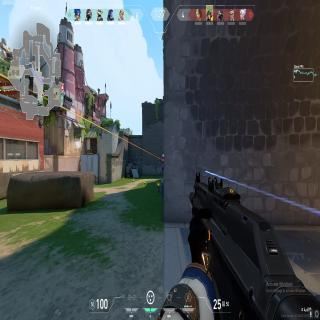ENEMY-BODY: (161, 154, 165, 174)
ENEMY-HEAD: (162, 154, 164, 158)
